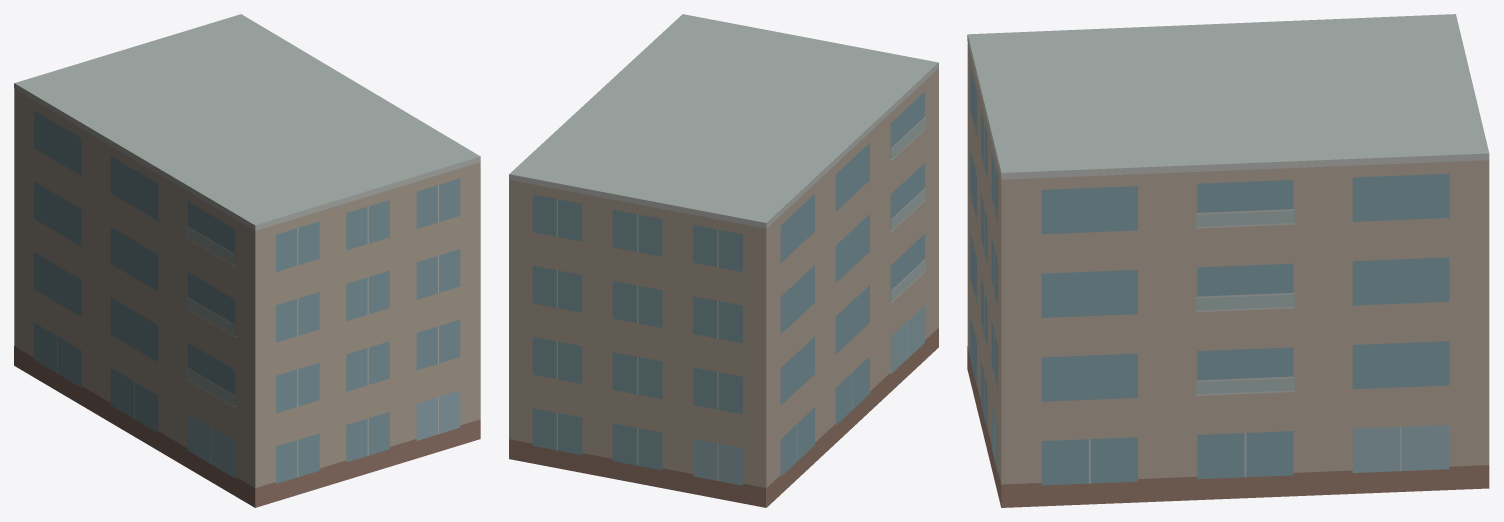
The model's file is survey-upis-32764465.glb.
3 views of the same model, side by side, from view 1: azimuth 30°, elevation 25°; view 2: azimuth 150°, elevation 25°; view 3: azimuth 270°, elevation 25° (orthographic). The views are drawn at different scales.
Visible parts, largest first — view 1: survey-upis-32764465.tmp; view 2: survey-upis-32764465.tmp; view 3: survey-upis-32764465.tmp.
Part boxes in pixels (x1,y1,x2,y2): survey-upis-32764465.tmp: (14, 14, 480, 507); survey-upis-32764465.tmp: (509, 14, 938, 507); survey-upis-32764465.tmp: (967, 14, 1489, 507).
Size of the model in its own units: 12.43 by 12.2 by 17.24.
